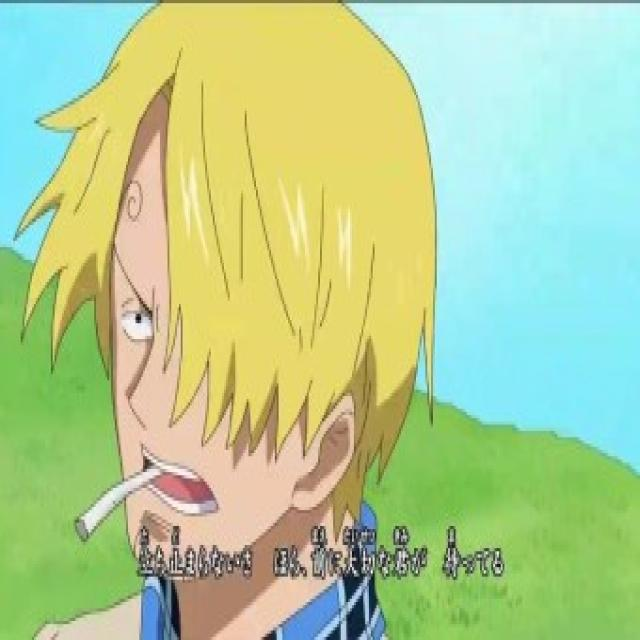Sangdi: (10, 16, 443, 589)
